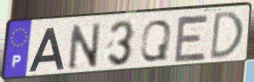3: (102, 18, 139, 69)
A: (27, 26, 66, 74)
D: (208, 10, 246, 62)
E: (172, 14, 211, 64)
N: (67, 20, 103, 72)
Q: (138, 18, 174, 63)
